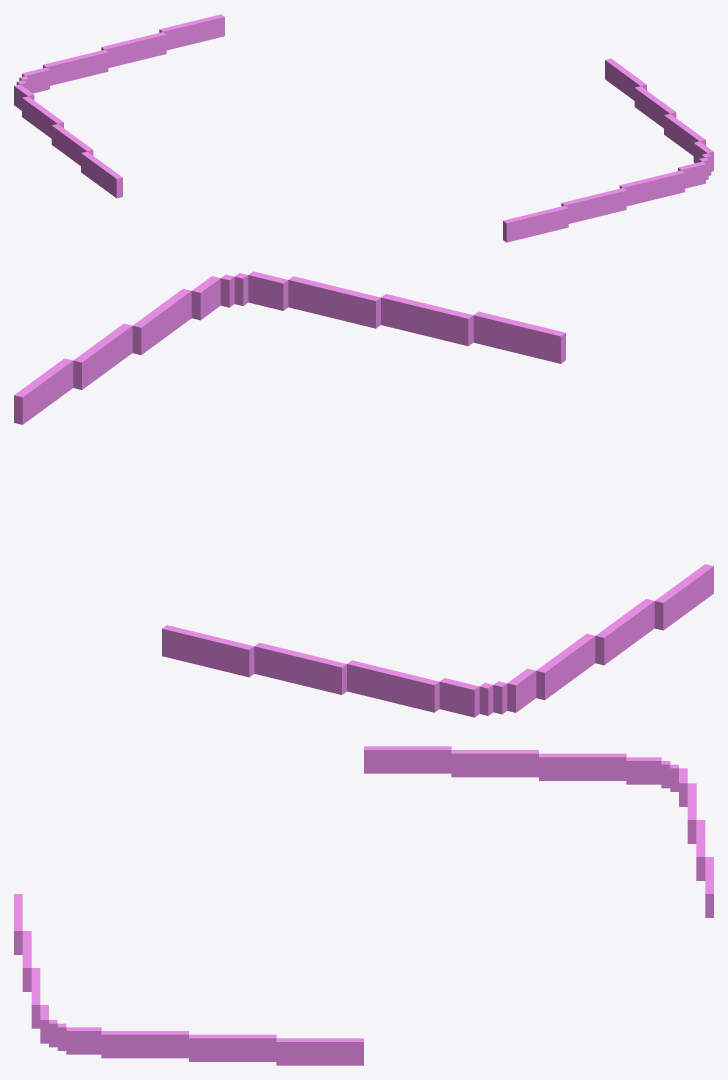
The model's file is tile_box.obj.
3 renders of one model, top to bottom at view 1: azimuth 30°, elevation 25°; view 2: azimuth 150°, elevation 25°; view 3: azimuth 270°, elevation 25°, orthographic. The views are drawn at different scales.
Size of the model in its own units: 8 by 0.3 by 8.
Materials: 1 (1 with a texture image).
